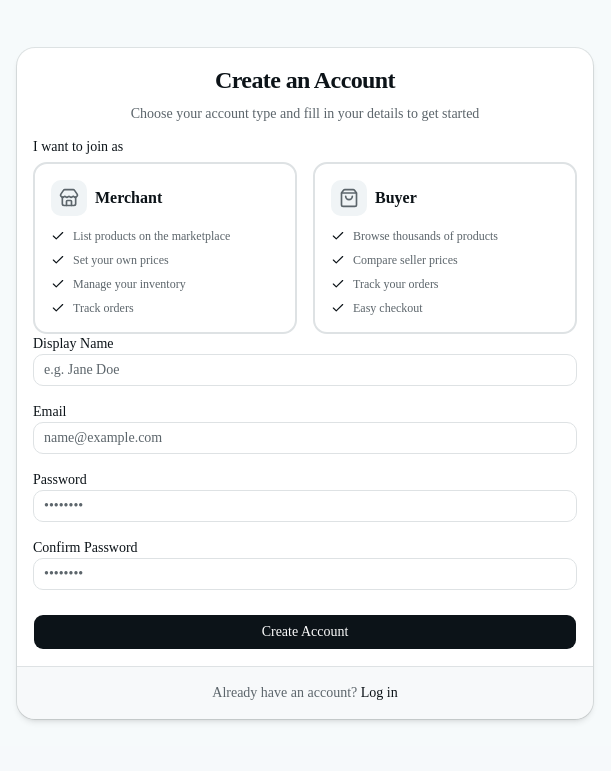
Test: SignupPage Component › displays inline API error banner when registration fails
Click the radio button labelled "Merchant": (165,248) [33,162,297,334]
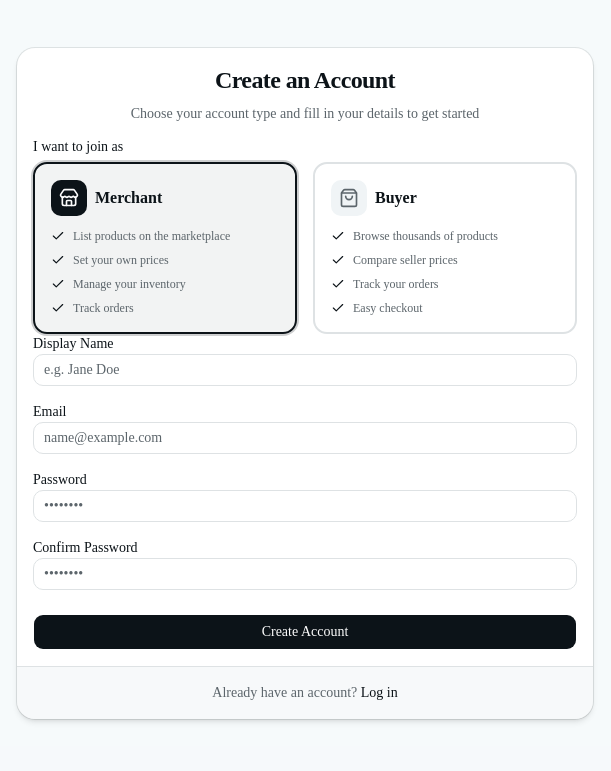
In the field labelled "Display Name": (305,370) [33,354,577,386], type "Merchant User"
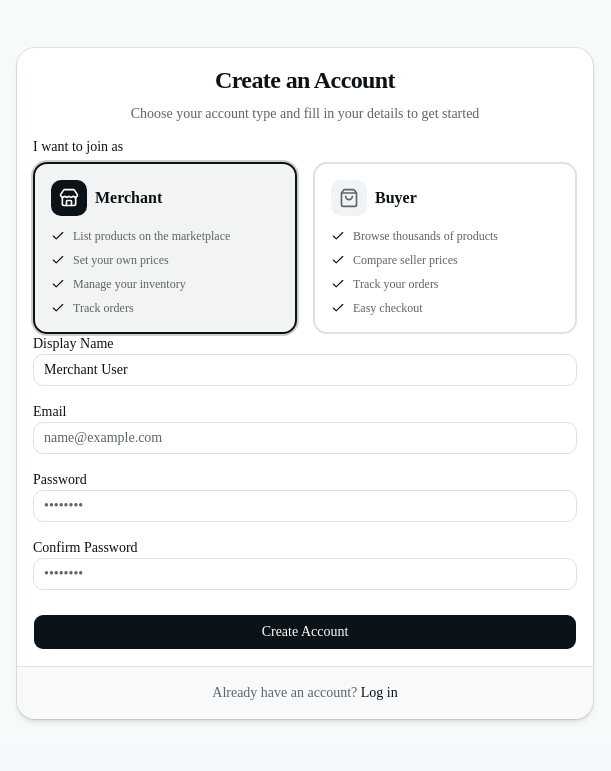
In the field labelled "Email": (305,438) [33,422,577,454], type "duplicate@example.com"
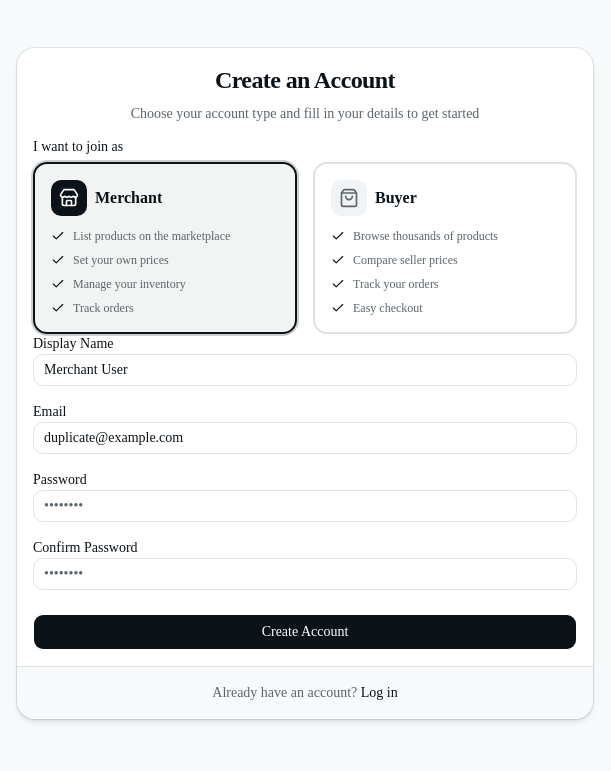
In the password field labelled "Password": (305,506) [33,490,577,522], type "password123"
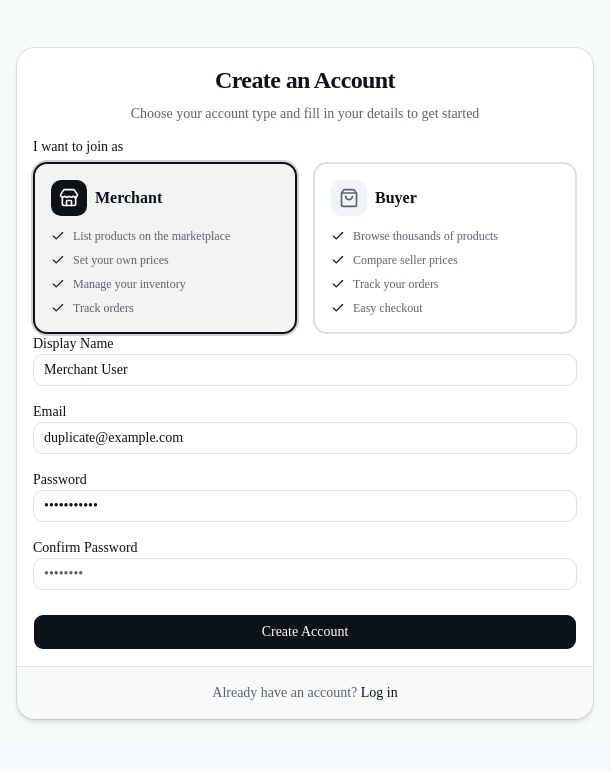
In the password field labelled "Confirm Password": (305,574) [33,558,577,590], type "password123"
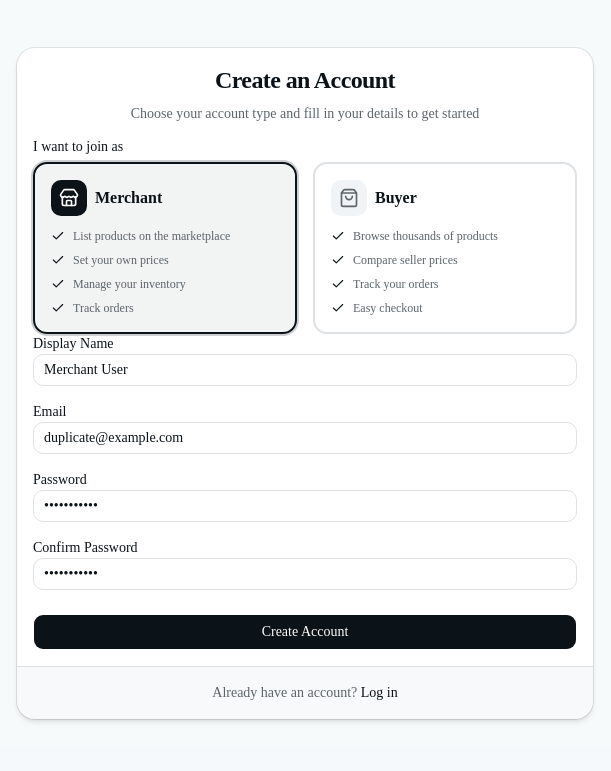
Click the button "Create Account": (305,632) [33,614,577,650]
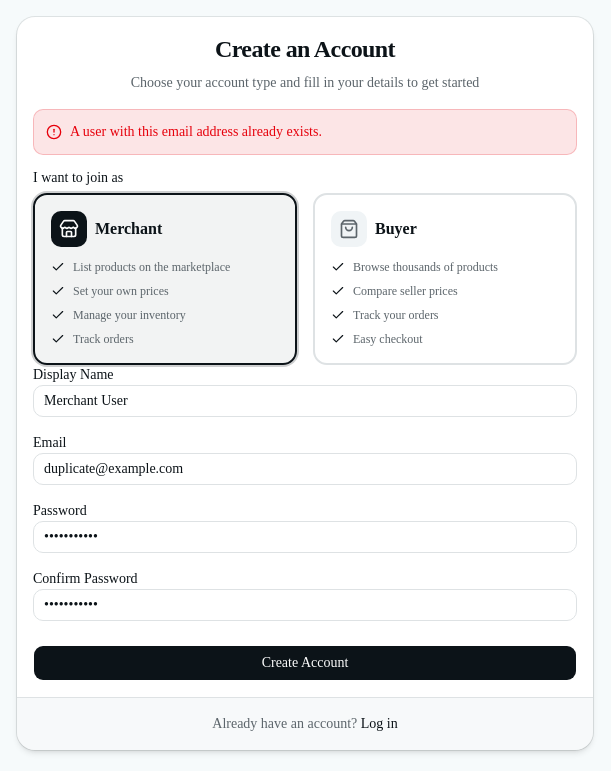
Now the text "A user with this email address already exists." is shown, box [70,122,322,142]
